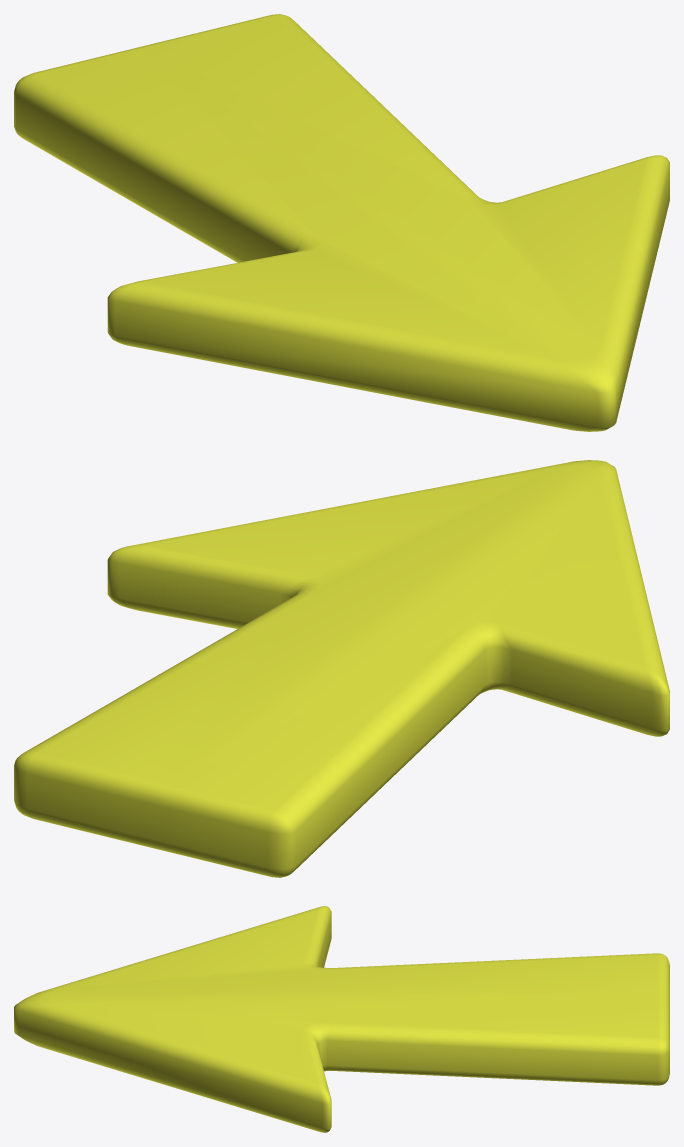
Rendered from Arrowhead_rightTransform.fbx.
3 renders of one model, top to bottom at view 1: azimuth 30°, elevation 25°; view 2: azimuth 150°, elevation 25°; view 3: azimuth 270°, elevation 25°, orthographic. The views are drawn at different scales.
Visible parts, largest first — view 1: Arrow; view 2: Arrow; view 3: Arrow.
Boxes of the visible parts, bbox=[...] form: Arrow: bbox=[14, 14, 669, 431]; Arrow: bbox=[14, 460, 669, 877]; Arrow: bbox=[14, 906, 669, 1132].
Bounding box in the file's own units: 211 × 23.43 × 301.
